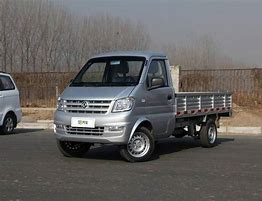smalltruck: (42, 46, 238, 161)
